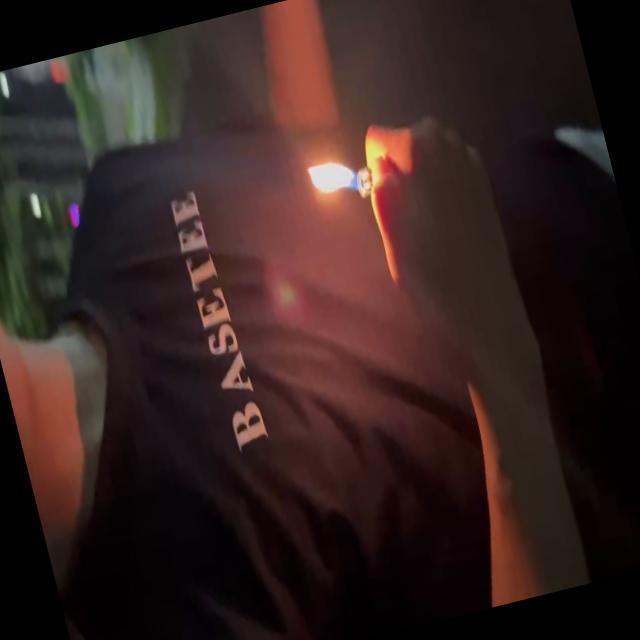Fire: (300, 144, 363, 209)
